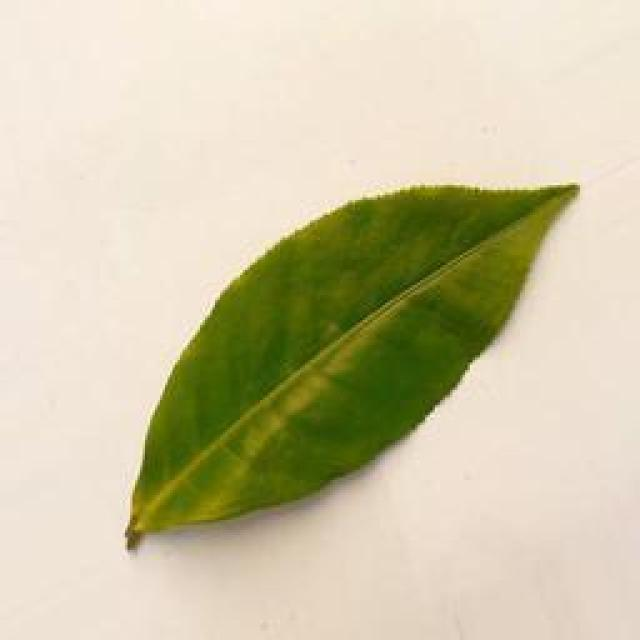Healthy: (120, 172, 583, 551)
